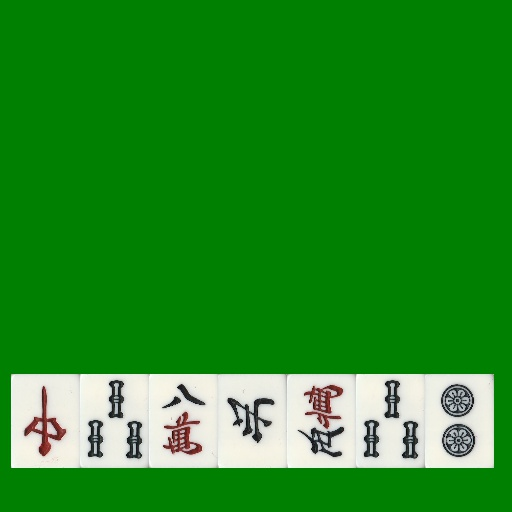2p: (425, 374, 494, 468)
3s: (80, 374, 149, 468), (356, 374, 425, 468)
5m: (287, 374, 356, 468)
8m: (149, 374, 218, 468)
north: (218, 374, 287, 468)
tyun: (11, 374, 80, 468)
